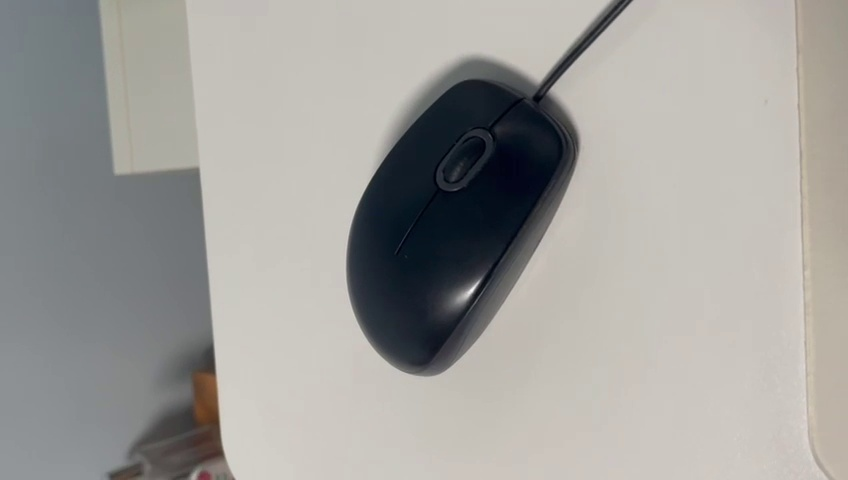objeto: (322, 43, 596, 398)
